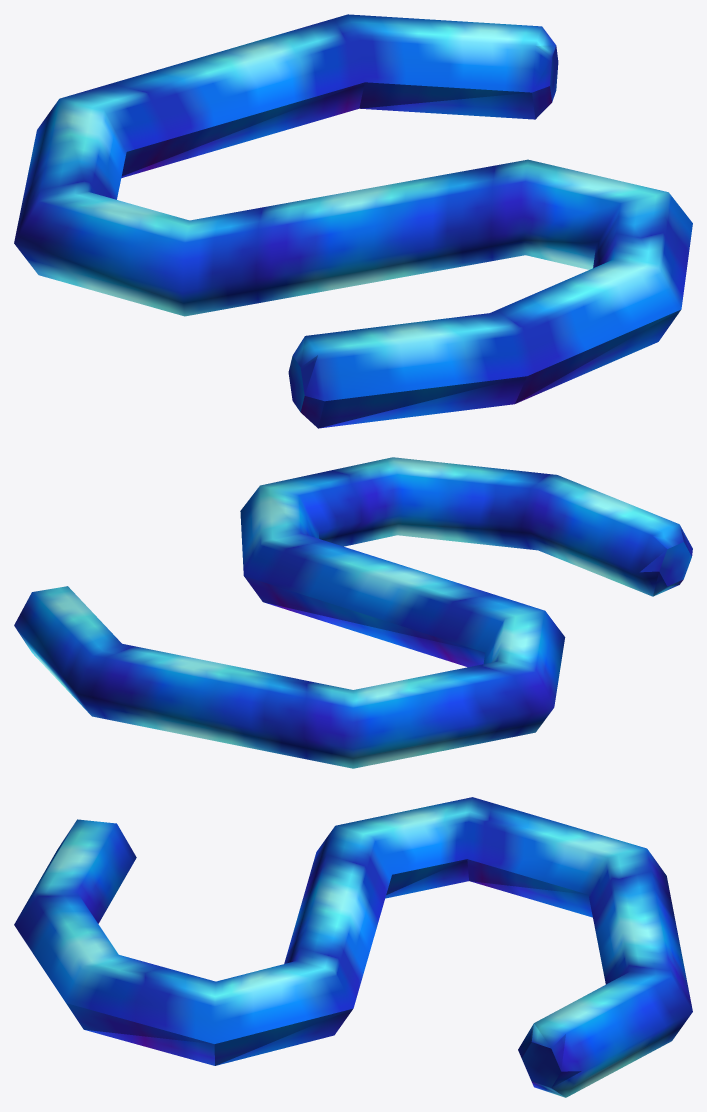
Rendered from furni_0200466.FBX.
3 views of the same model, one above another, from view 1: azimuth 30°, elevation 25°; view 2: azimuth 150°, elevation 25°; view 3: azimuth 270°, elevation 25° (orthographic). The views are drawn at different scales.
Parts seen in each view (by area): view 1: furni_0200466; view 2: furni_0200466; view 3: furni_0200466.
Part boxes in pixels (x1,y1,x2,y2): furni_0200466: (14, 14, 692, 428); furni_0200466: (14, 457, 692, 768); furni_0200466: (14, 797, 692, 1097).
Size of the model in its own units: 43.17 by 5.11 by 49.07.
1 material, 1 textured.
